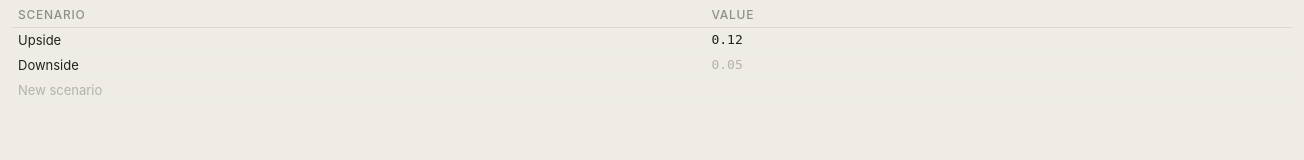
Test: reports a refused override as text under the table
Type "soon" into the field named "Downside value" at (999, 65), box [706, 53, 1292, 77]
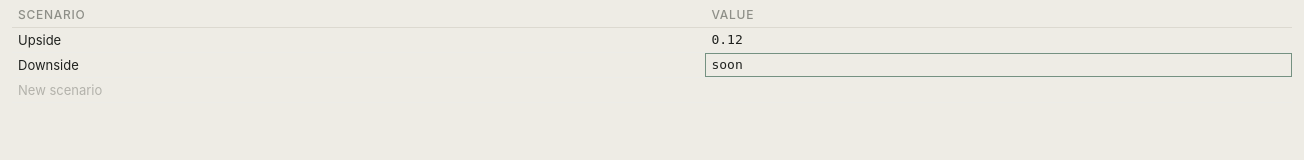
Press Tab
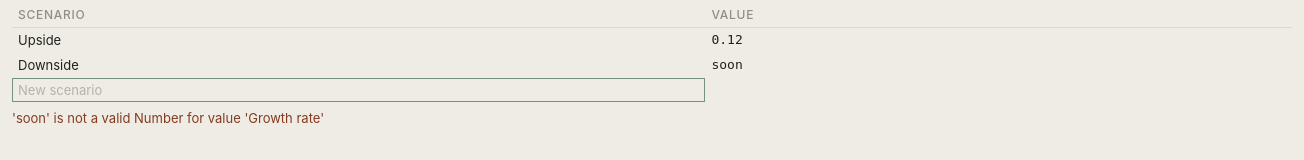
Expected: the text "'soon' is not a valid Number for value 'Growth rate'" is shown, [12, 110, 324, 126]
